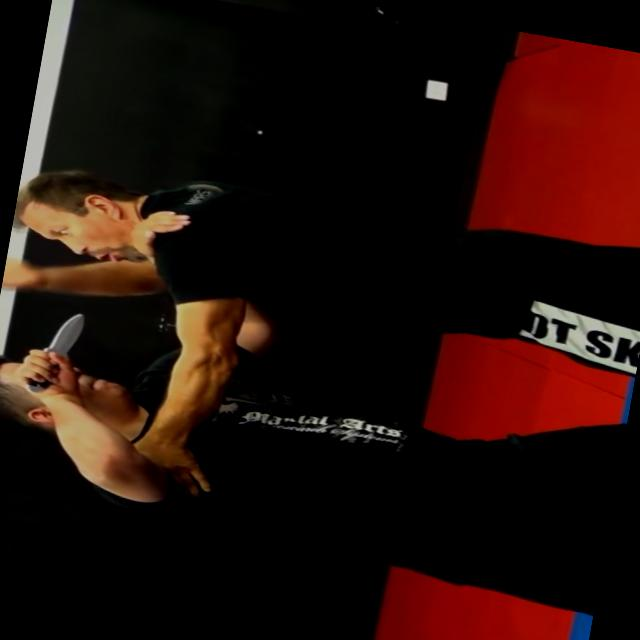knife: (8, 300, 97, 404)
